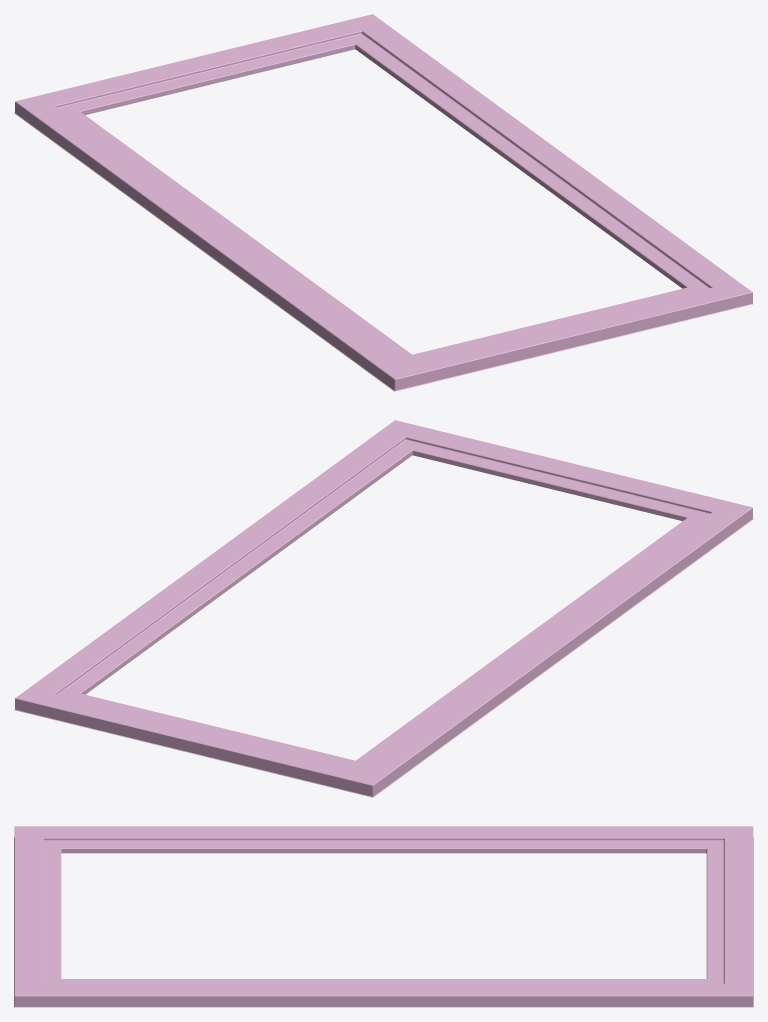
The model's file is stationvent_base.fbx.
3 views of the same model, one above another, from view 1: azimuth 30°, elevation 25°; view 2: azimuth 150°, elevation 25°; view 3: azimuth 270°, elevation 25° (orthographic). The views are drawn at different scales.
Visible parts, largest first — view 1: base.frozen; view 2: base.frozen; view 3: base.frozen.
Part boxes in pixels (box(x1,y1,x2,y2)): base.frozen: box(14, 14, 753, 391); base.frozen: box(14, 420, 753, 797); base.frozen: box(14, 826, 753, 1007).
Bounding box in the file's own units: 1388 × 44.68 × 2548.
